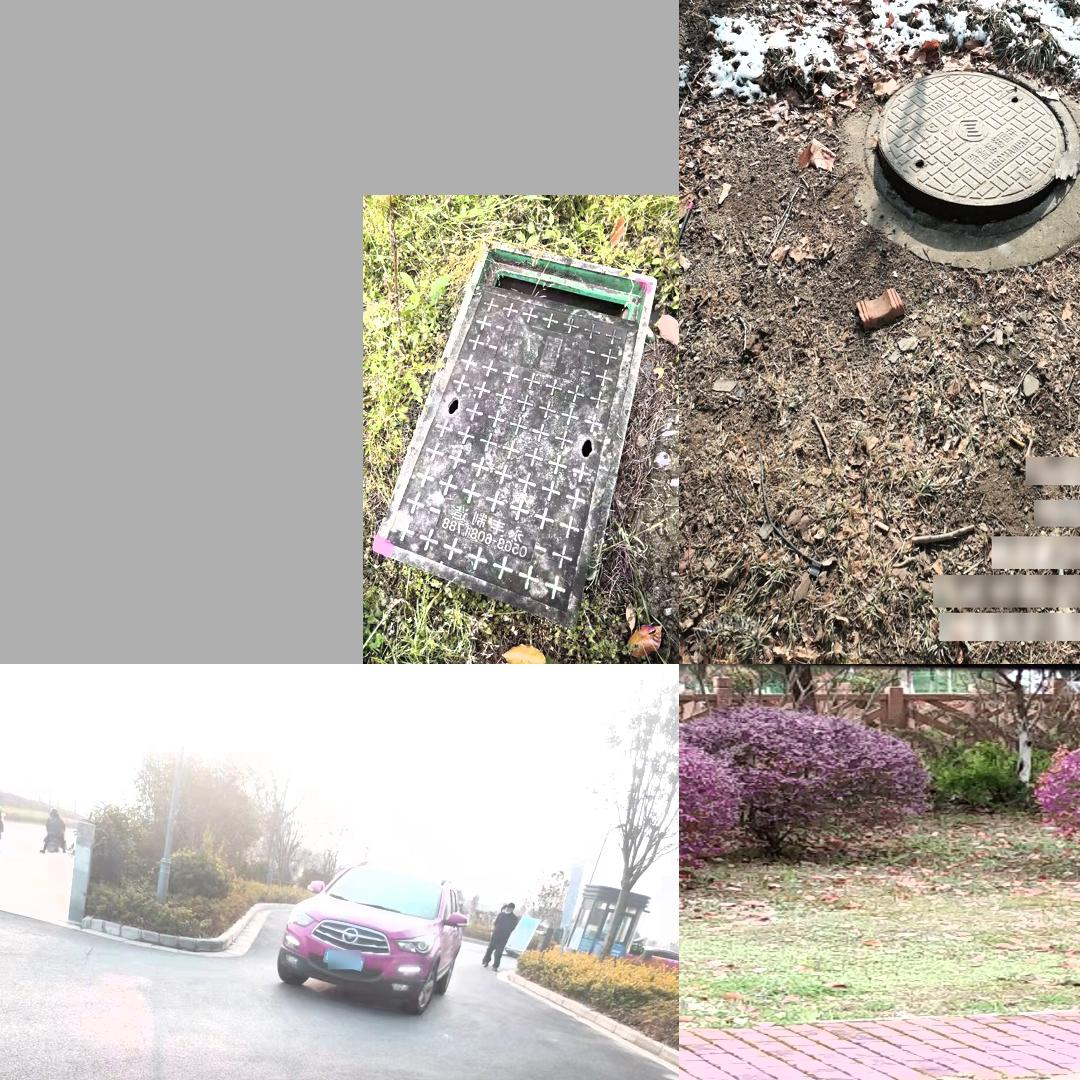uncovered: (373, 237, 657, 625), (866, 55, 1080, 220), (901, 1038, 1080, 1080)
